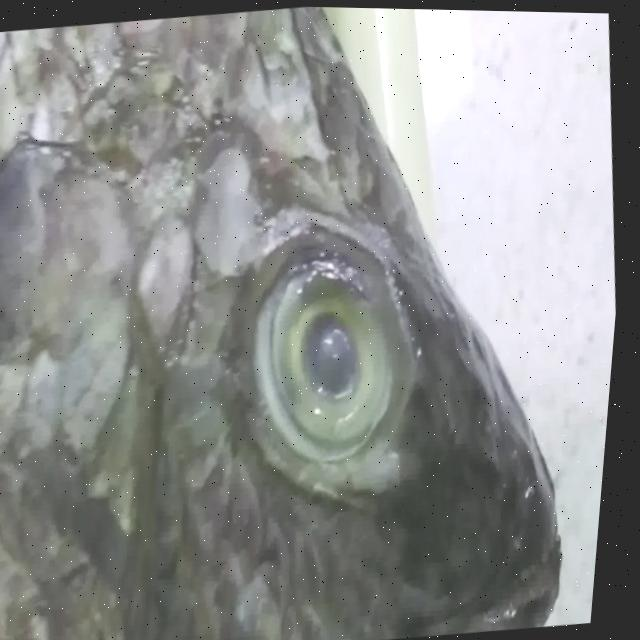Non-Fresh: (228, 229, 433, 496)
